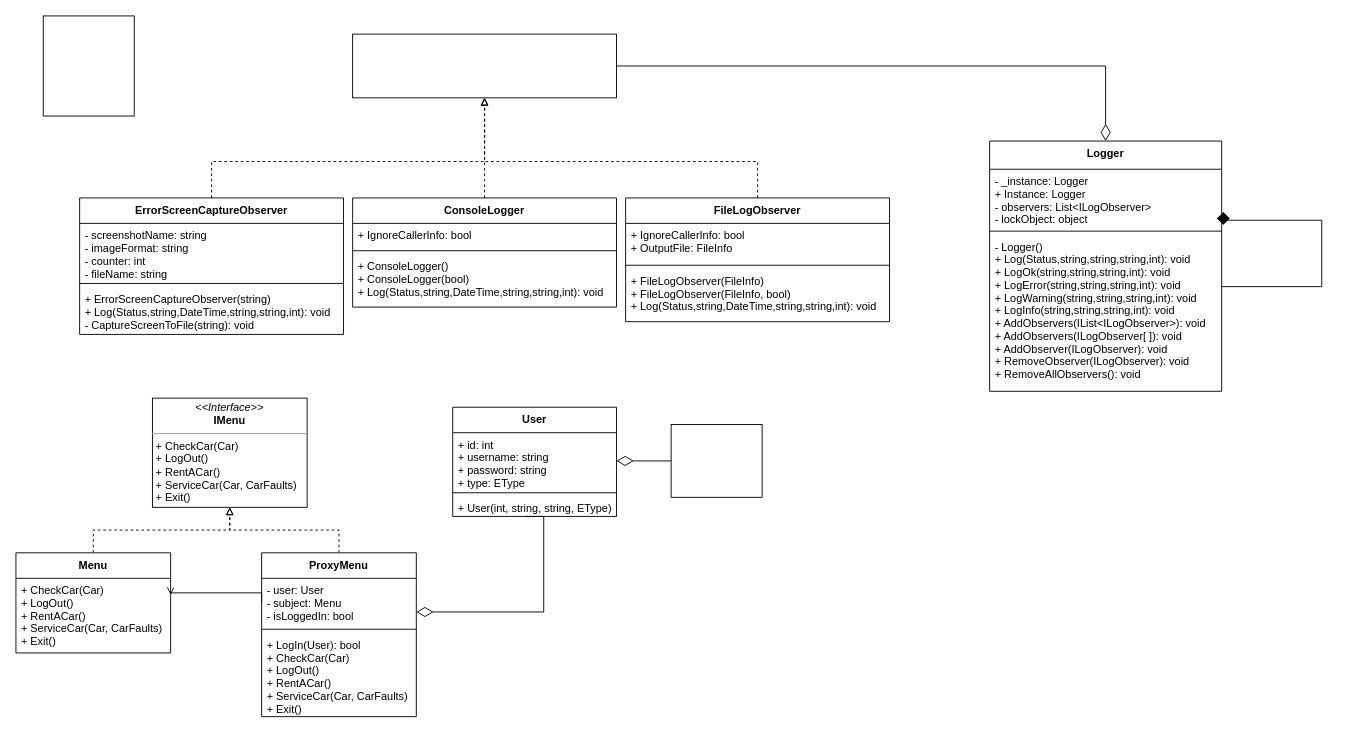
Image size: 1350x735. Some labels were removed from this diagram. Here are the shapes that lost their labels. From the top down, the centre of each, then its label:
(88,65): <<enumeration>> Status Ok Error Warning Info
(484,65): <<Interface>> ILogObserver + Log(Status,string,DateTime,string,string,int): void
(716,460): <<enumeration>> EType CLIENT ADMIN
